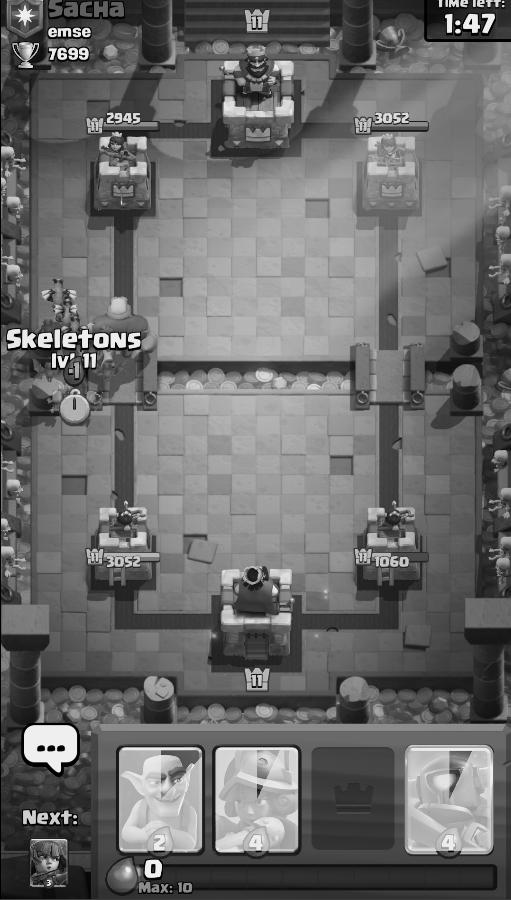bat: (92, 359, 126, 380), (36, 360, 65, 380), (33, 315, 60, 333)
gargouille: (37, 274, 77, 306), (60, 317, 95, 338), (55, 299, 82, 324)
geant: (93, 296, 159, 370)
squelette: (82, 388, 104, 415), (49, 388, 66, 419)
